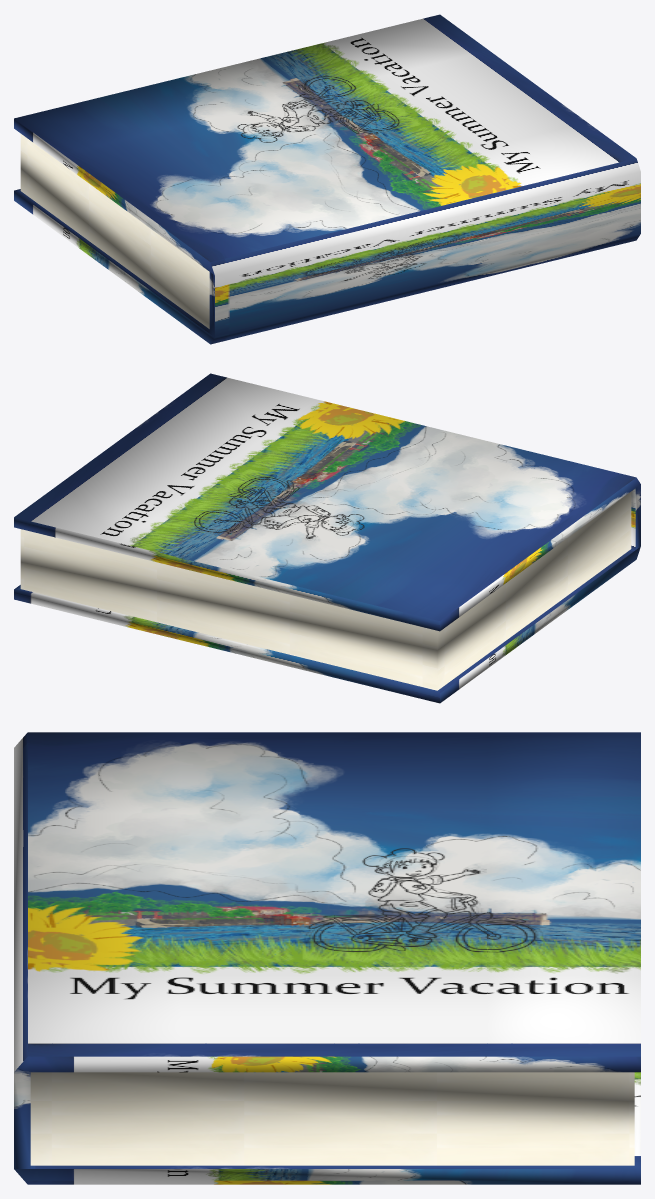
Rendered from Book02.glb.
3 views of the same model, one above another, from view 1: azimuth 30°, elevation 25°; view 2: azimuth 150°, elevation 25°; view 3: azimuth 270°, elevation 25° (orthographic). The views are drawn at different scales.
Visible parts, largest first — view 1: Cube; view 2: Cube; view 3: Cube.
Part boxes in pixels (left/top/right/bottom): Cube: left=14, top=14, right=640, bottom=344; Cube: left=14, top=373, right=640, bottom=703; Cube: left=14, top=732, right=640, bottom=1184.
Size of the model in its own units: 0.6035 by 0.1113 by 0.493.
2 materials, 2 textured.
